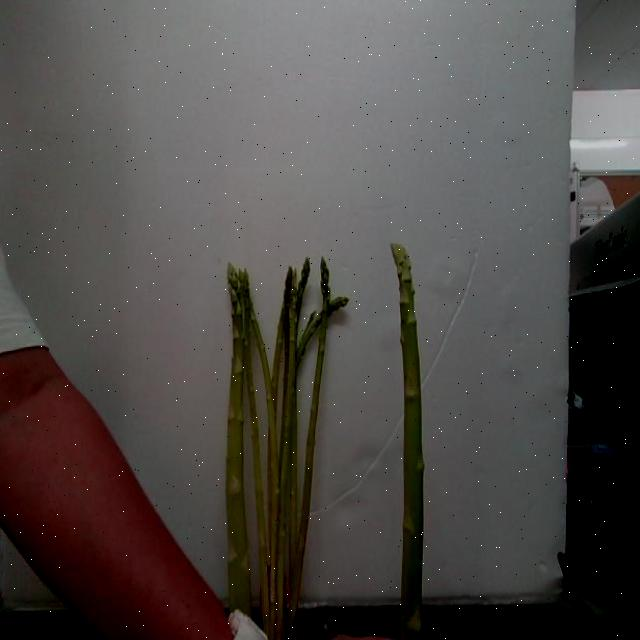aspargus: (288, 254, 335, 640), (393, 244, 426, 640)
